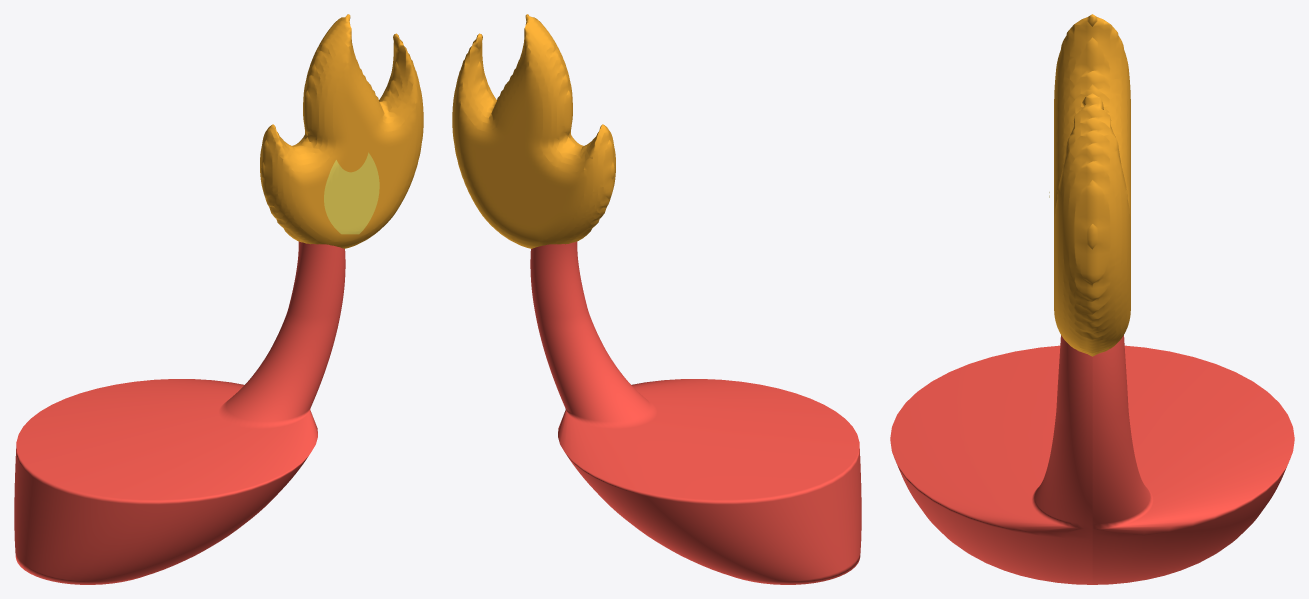
Rendered from tail-fire.glb.
3 renders of one model, left to right at view 1: azimuth 30°, elevation 25°; view 2: azimuth 150°, elevation 25°; view 3: azimuth 270°, elevation 25°, orthographic. The views are drawn at different scales.
Parts seen in each view (by area): view 1: tail_0_solid, tail_1_solid, tail_2_paint; view 2: tail_0_solid, tail_1_solid; view 3: tail_0_solid, tail_1_solid.
Boxes of the visible parts, x1,y1,x2,y2 form: tail_0_solid: [14, 241, 345, 584]; tail_1_solid: [260, 14, 423, 248]; tail_2_paint: [324, 152, 379, 234]; tail_0_solid: [530, 241, 861, 584]; tail_1_solid: [452, 14, 615, 248]; tail_0_solid: [890, 335, 1294, 584]; tail_1_solid: [1054, 14, 1130, 356].
Bounding box in the file's own units: 0.7057 × 0.8265 × 0.4279.
